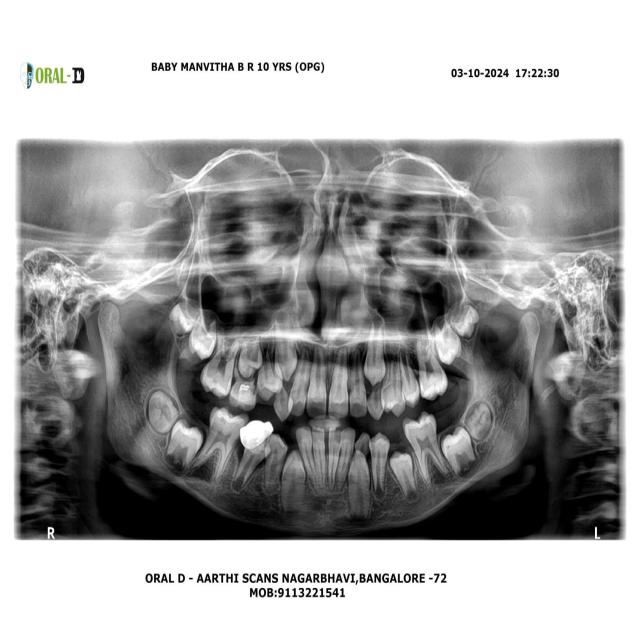Premolars: (367, 427, 389, 493)
